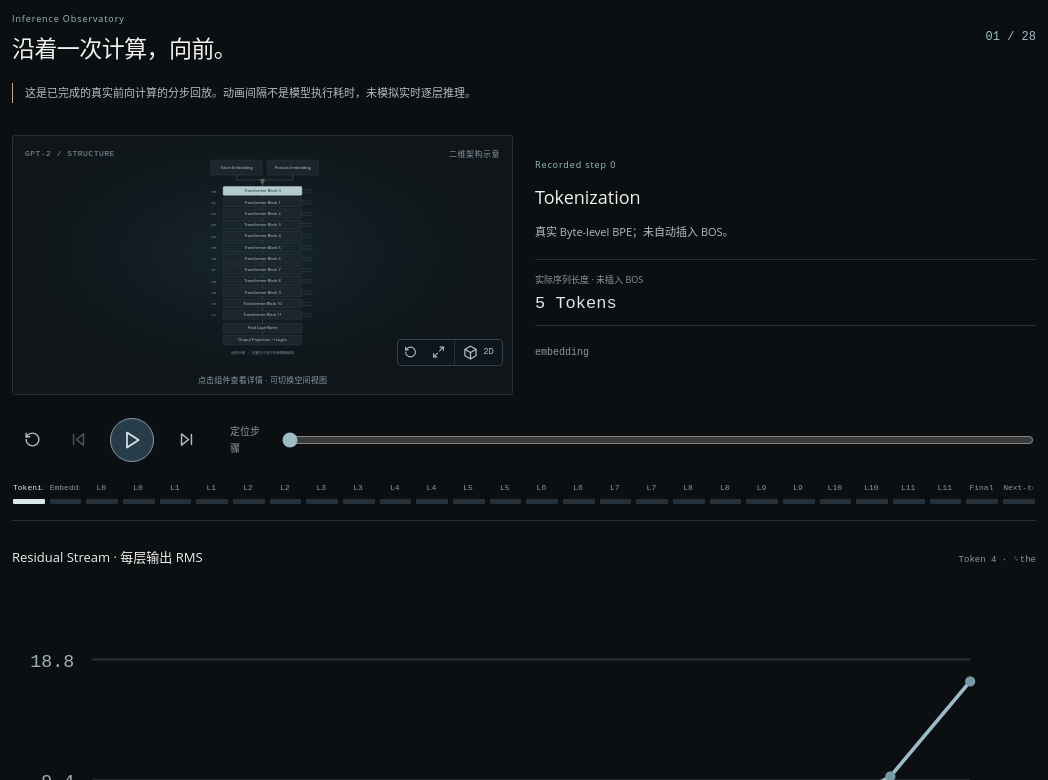
Test: supports navigation, seek and reset with accurate recorded caption
The image size is (1048, 780).
Expected: the text "这是已完成的真实前向计算的分步回放。动画间隔不是模型执行耗时，未模拟实时逐层推理。" is shown, [12,83,1036,103]
Click the button named "下一步" at (186, 440), box [166,420,206,460]
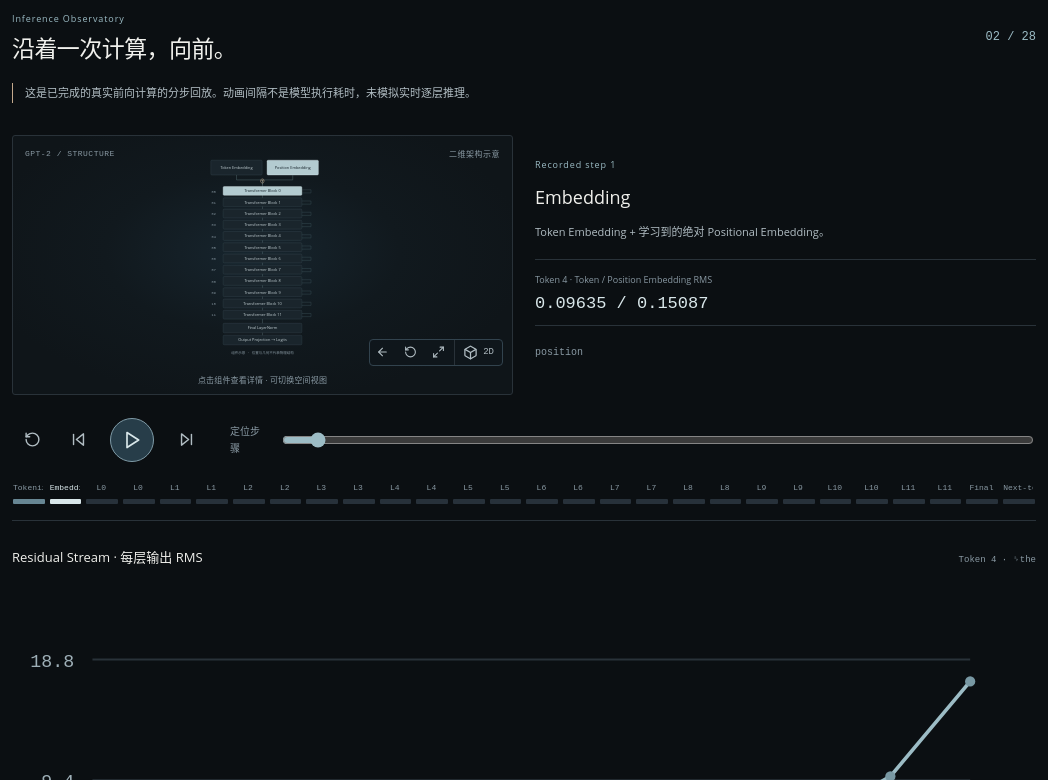
Result: the heading with test id "playback-step" reads "Embedding" at [535,184,630,208]
Set the slider named "回放步骤定位" to "10" at (563, 440), box [282,427,1034,453]
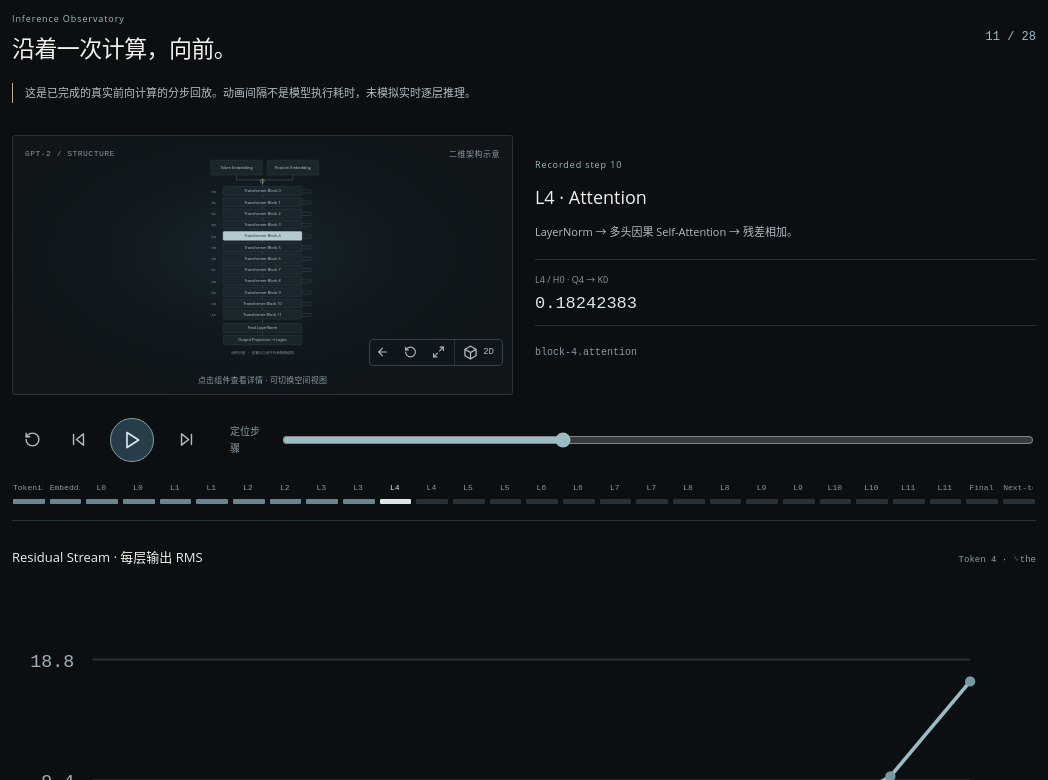
Click the button named "重置回放" at (32, 440), box [12,420,52,460]
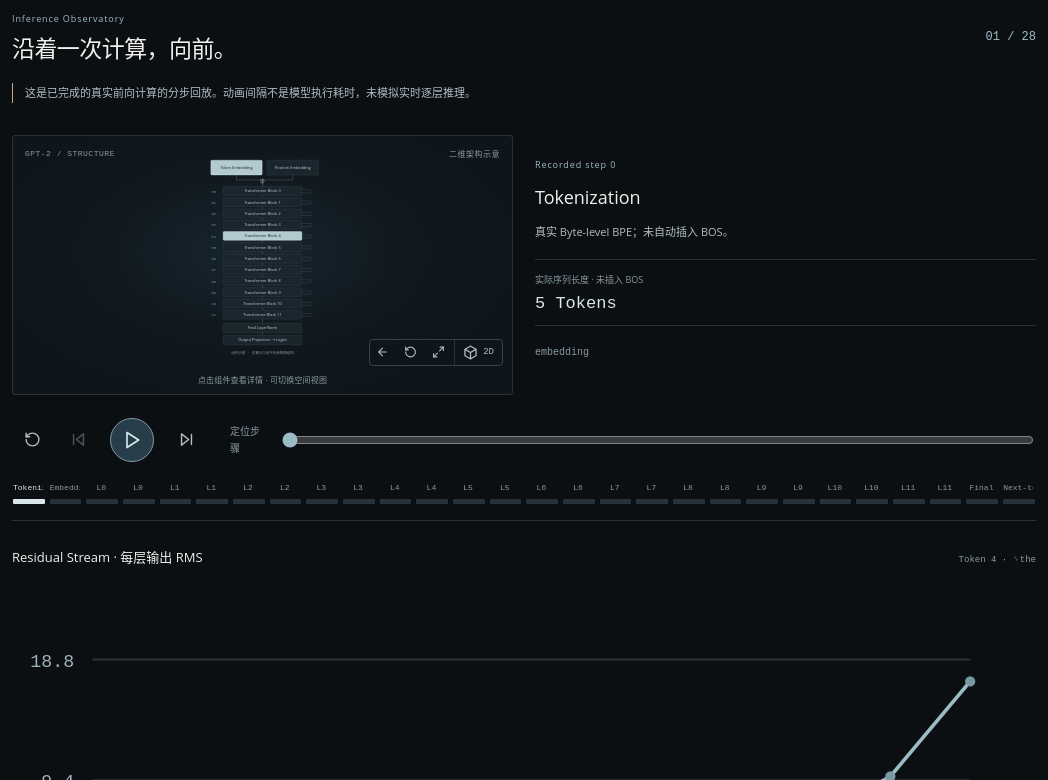
Result: the heading with test id "playback-step" reads "Tokenization" at [535,184,641,208]
